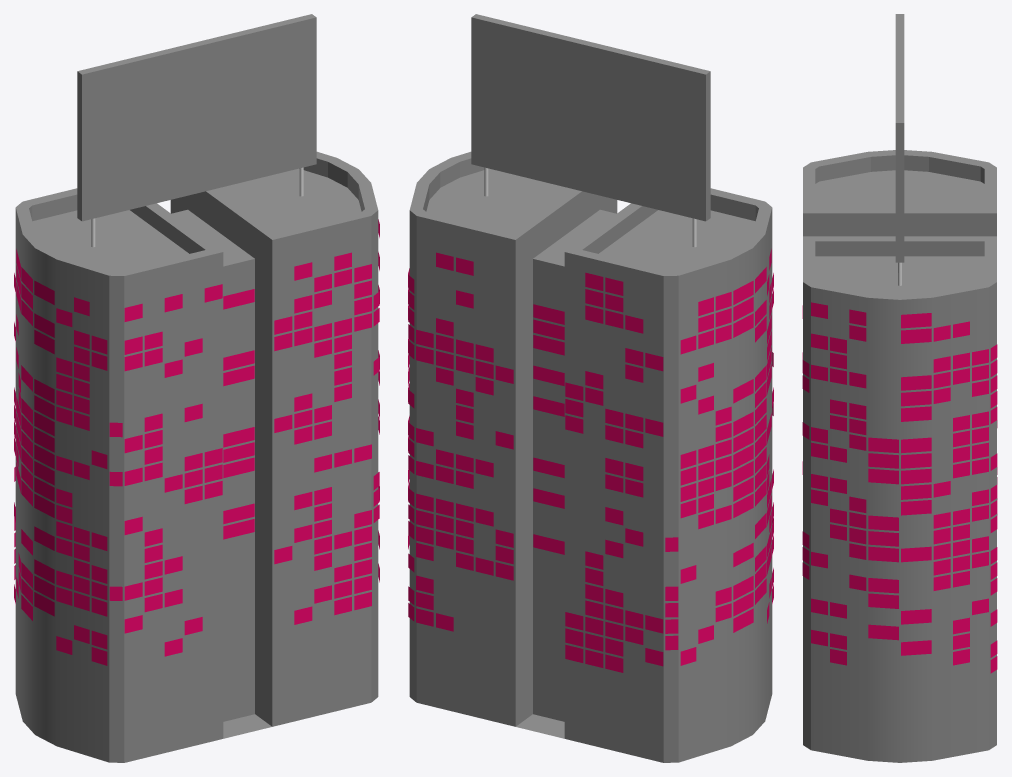
The model's file is obj_bbuilding007.FBX.
3 renders of one model, left to right at view 1: azimuth 30°, elevation 25°; view 2: azimuth 150°, elevation 25°; view 3: azimuth 270°, elevation 25°, orthographic. The views are drawn at different scales.
Parts seen in each view (by area): view 1: bbuilding001, Object004, Box005; view 2: bbuilding001, Object004, Box005; view 3: bbuilding001, Object004, Box005.
Part boxes in pixels (<box>): bbuilding001: <box>15,151,378,762</box>; Object004: <box>14,219,379,665</box>; Box005: <box>77,14,316,221</box>; bbuilding001: <box>409,151,772,762</box>; Object004: <box>408,249,773,672</box>; Box005: <box>471,14,710,221</box>; bbuilding001: <box>803,150,996,762</box>; Object004: <box>802,302,997,673</box>; Box005: <box>895,14,904,262</box>.
Bounding box in the file's own units: 16289 × 31035 × 8888.
